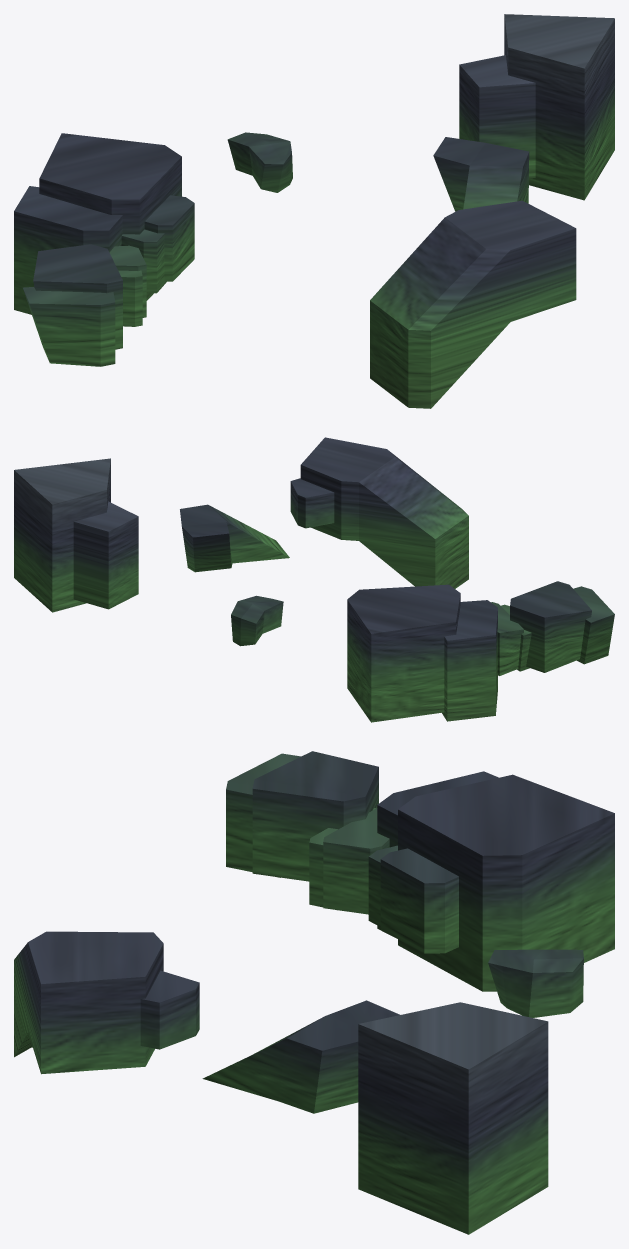
Rendered from Pantanos01.fbx.
3 renders of one model, top to bottom at view 1: azimuth 30°, elevation 25°; view 2: azimuth 150°, elevation 25°; view 3: azimuth 270°, elevation 25°, orthographic. The views are drawn at different scales.
Parts seen in each view (by area): view 1: Pantanos01; view 2: Pantanos01; view 3: Pantanos01.
Part boxes in pixels (left/top/right/bottom): Pantanos01: left=14, top=14, right=614, bottom=408; Pantanos01: left=14, top=437, right=614, bottom=722; Pantanos01: left=14, top=751, right=614, bottom=1234.
Size of the model in its own units: 72.47 by 17.7 by 45.61.
